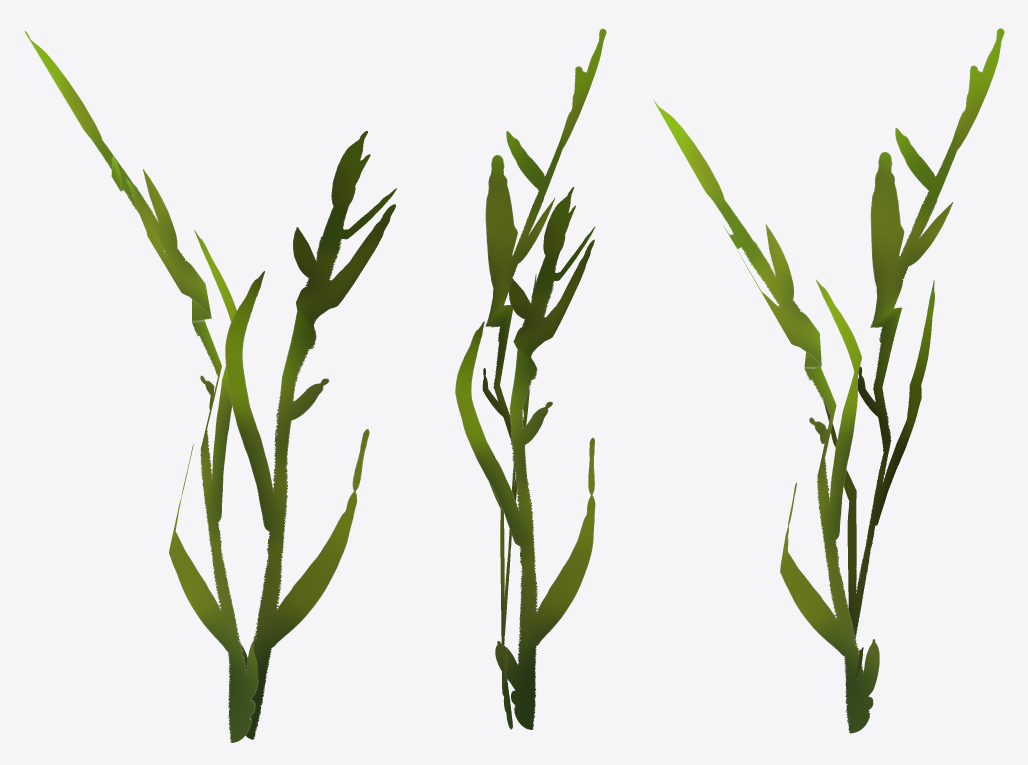
The model's file is MESH_Grass_01.fbx.
3 renders of one model, left to right at view 1: azimuth 30°, elevation 25°; view 2: azimuth 150°, elevation 25°; view 3: azimuth 270°, elevation 25°, orthographic. The views are drawn at different scales.
Parts seen in each view (by area): view 1: pPlane2, pPlane3; view 2: pPlane3, pPlane2; view 3: pPlane2, pPlane3.
Part boxes in pixels (x1,y1,x2,y2): pPlane2: (225,131,396,739); pPlane3: (25,31,258,742); pPlane3: (455,187,595,729); pPlane2: (482,28,606,729); pPlane2: (653,100,879,733); pPlane3: (823,28,1004,684).
Size of the model in its own units: 0.2793 by 0.7596 by 0.3878.
Materials: 1 (1 with a texture image).
